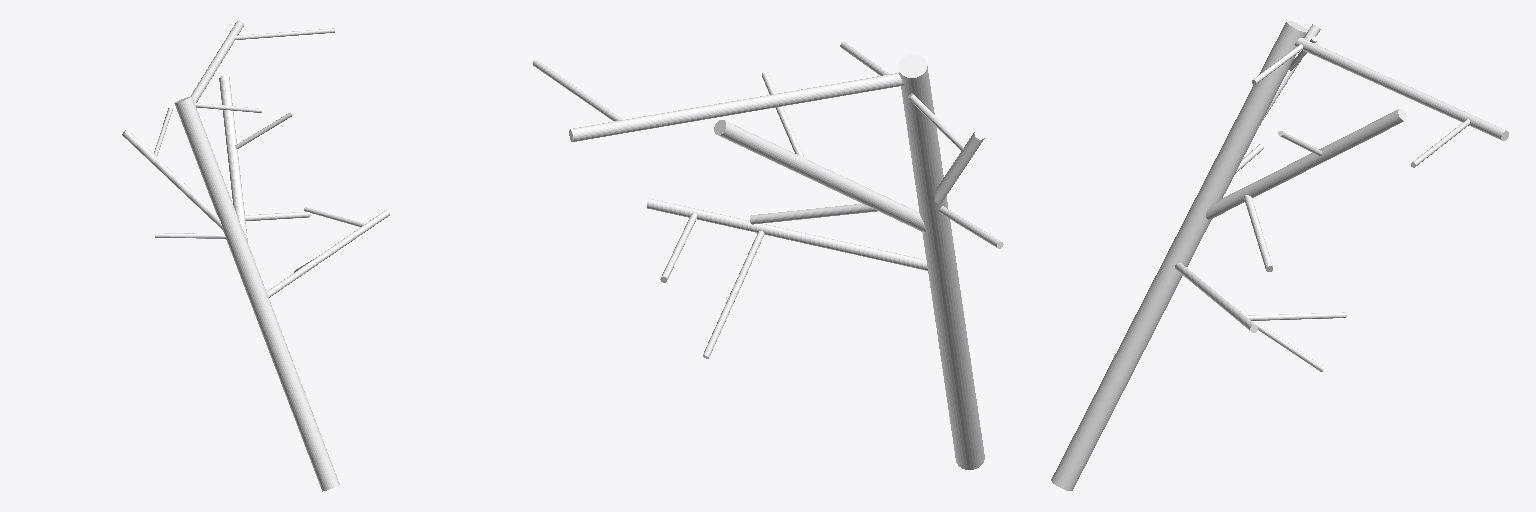
robot.urdf — tree_40.urdf:
<?xml version='1.0' encoding='UTF-8'?>
<robot name="tree_40.urdf">
  <link name="branch_0">
    <inertial>
      <origin xyz="0.0 0.0 0.0" rpy="0.0 -0.0 0.0"/>
      <mass value="1.0"/>
      <inertia ixx="1.0" ixy="0.0" ixz="0.0" iyy="1.0" iyz="0.0" izz="1.0"/>
    </inertial>
    <visual name="branch_0_visual">
      <geometry>
        <cylinder radius="0.1683630190923332" length="7.415576922899499"/>
      </geometry>
      <material name="branch_material"/>
      <origin xyz="-0.5688258565572858 1.6447076700783856 3.273998946205863" rpy="0.0 0.48856805980247836 1.9037712823253712"/>
    </visual>
    <collision name="branch_0_collision">
      <geometry>
        <cylinder radius="0.1683630190923332" length="7.415576922899499"/>
      </geometry>
      <origin xyz="-0.5688258565572858 1.6447076700783856 3.273998946205863" rpy="0.0 0.48856805980247836 1.9037712823253712"/>
    </collision>
  </link>
  <link name="branch_1">
    <inertial>
      <origin xyz="0.0 0.0 0.0" rpy="0.0 -0.0 0.0"/>
      <mass value="1.0"/>
      <inertia ixx="1.0" ixy="0.0" ixz="0.0" iyy="1.0" iyz="0.0" izz="1.0"/>
    </inertial>
    <visual name="branch_1_visual">
      <geometry>
        <cylinder radius="0.059117284755058404" length="3.483819289228695"/>
      </geometry>
      <material name="branch_material"/>
      <origin xyz="0.0 0.0 0.0" rpy="0.0 -0.0 0.0"/>
    </visual>
    <collision name="branch_1_collision">
      <geometry>
        <cylinder radius="0.059117284755058404" length="3.483819289228695"/>
      </geometry>
      <origin xyz="0.0 0.0 0.0" rpy="0.0 -0.0 0.0"/>
    </collision>
  </link>
  <link name="branch_2">
    <inertial>
      <origin xyz="0.0 0.0 0.0" rpy="0.0 -0.0 0.0"/>
      <mass value="1.0"/>
      <inertia ixx="1.0" ixy="0.0" ixz="0.0" iyy="1.0" iyz="0.0" izz="1.0"/>
    </inertial>
    <visual name="branch_2_visual">
      <geometry>
        <cylinder radius="0.04" length="1.5246982447365642"/>
      </geometry>
      <material name="branch_material"/>
      <origin xyz="0.0 0.0 0.0" rpy="0.0 -0.0 0.0"/>
    </visual>
    <collision name="branch_2_collision">
      <geometry>
        <cylinder radius="0.04" length="1.5246982447365642"/>
      </geometry>
      <origin xyz="0.0 0.0 0.0" rpy="0.0 -0.0 0.0"/>
    </collision>
  </link>
  <link name="branch_3">
    <inertial>
      <origin xyz="0.0 0.0 0.0" rpy="0.0 -0.0 0.0"/>
      <mass value="1.0"/>
      <inertia ixx="1.0" ixy="0.0" ixz="0.0" iyy="1.0" iyz="0.0" izz="1.0"/>
    </inertial>
    <visual name="branch_3_visual">
      <geometry>
        <cylinder radius="0.04" length="1.743351063896357"/>
      </geometry>
      <material name="branch_material"/>
      <origin xyz="0.0 0.0 0.0" rpy="0.0 -0.0 0.0"/>
    </visual>
    <collision name="branch_3_collision">
      <geometry>
        <cylinder radius="0.04" length="1.743351063896357"/>
      </geometry>
      <origin xyz="0.0 0.0 0.0" rpy="0.0 -0.0 0.0"/>
    </collision>
  </link>
  <link name="branch_4">
    <inertial>
      <origin xyz="0.0 0.0 0.0" rpy="0.0 -0.0 0.0"/>
      <mass value="1.0"/>
      <inertia ixx="1.0" ixy="0.0" ixz="0.0" iyy="1.0" iyz="0.0" izz="1.0"/>
    </inertial>
    <visual name="branch_4_visual">
      <geometry>
        <cylinder radius="0.07707807274684522" length="4.113313269638974"/>
      </geometry>
      <material name="branch_material"/>
      <origin xyz="0.0 0.0 0.0" rpy="0.0 -0.0 0.0"/>
    </visual>
    <collision name="branch_4_collision">
      <geometry>
        <cylinder radius="0.07707807274684522" length="4.113313269638974"/>
      </geometry>
      <origin xyz="0.0 0.0 0.0" rpy="0.0 -0.0 0.0"/>
    </collision>
  </link>
  <link name="branch_5">
    <inertial>
      <origin xyz="0.0 0.0 0.0" rpy="0.0 -0.0 0.0"/>
      <mass value="1.0"/>
      <inertia ixx="1.0" ixy="0.0" ixz="0.0" iyy="1.0" iyz="0.0" izz="1.0"/>
    </inertial>
    <visual name="branch_5_visual">
      <geometry>
        <cylinder radius="0.04" length="1.2754172766165321"/>
      </geometry>
      <material name="branch_material"/>
      <origin xyz="0.0 0.0 0.0" rpy="0.0 -0.0 0.0"/>
    </visual>
    <collision name="branch_5_collision">
      <geometry>
        <cylinder radius="0.04" length="1.2754172766165321"/>
      </geometry>
      <origin xyz="0.0 0.0 0.0" rpy="0.0 -0.0 0.0"/>
    </collision>
  </link>
  <link name="branch_6">
    <inertial>
      <origin xyz="0.0 0.0 0.0" rpy="0.0 -0.0 0.0"/>
      <mass value="1.0"/>
      <inertia ixx="1.0" ixy="0.0" ixz="0.0" iyy="1.0" iyz="0.0" izz="1.0"/>
    </inertial>
    <visual name="branch_6_visual">
      <geometry>
        <cylinder radius="0.04" length="1.8523567179133802"/>
      </geometry>
      <material name="branch_material"/>
      <origin xyz="0.0 0.0 0.0" rpy="0.0 -0.0 0.0"/>
    </visual>
    <collision name="branch_6_collision">
      <geometry>
        <cylinder radius="0.04" length="1.8523567179133802"/>
      </geometry>
      <origin xyz="0.0 0.0 0.0" rpy="0.0 -0.0 0.0"/>
    </collision>
  </link>
  <link name="branch_7">
    <inertial>
      <origin xyz="0.0 0.0 0.0" rpy="0.0 -0.0 0.0"/>
      <mass value="1.0"/>
      <inertia ixx="1.0" ixy="0.0" ixz="0.0" iyy="1.0" iyz="0.0" izz="1.0"/>
    </inertial>
    <visual name="branch_7_visual">
      <geometry>
        <cylinder radius="0.09437795506862831" length="3.7754307922966452"/>
      </geometry>
      <material name="branch_material"/>
      <origin xyz="0.0 0.0 0.0" rpy="0.0 -0.0 0.0"/>
    </visual>
    <collision name="branch_7_collision">
      <geometry>
        <cylinder radius="0.09437795506862831" length="3.7754307922966452"/>
      </geometry>
      <origin xyz="0.0 0.0 0.0" rpy="0.0 -0.0 0.0"/>
    </collision>
  </link>
  <link name="branch_8">
    <inertial>
      <origin xyz="0.0 0.0 0.0" rpy="0.0 -0.0 0.0"/>
      <mass value="1.0"/>
      <inertia ixx="1.0" ixy="0.0" ixz="0.0" iyy="1.0" iyz="0.0" izz="1.0"/>
    </inertial>
    <visual name="branch_8_visual">
      <geometry>
        <cylinder radius="0.04" length="1.2883614204852898"/>
      </geometry>
      <material name="branch_material"/>
      <origin xyz="0.0 0.0 0.0" rpy="0.0 -0.0 0.0"/>
    </visual>
    <collision name="branch_8_collision">
      <geometry>
        <cylinder radius="0.04" length="1.2883614204852898"/>
      </geometry>
      <origin xyz="0.0 0.0 0.0" rpy="0.0 -0.0 0.0"/>
    </collision>
  </link>
  <link name="branch_9">
    <inertial>
      <origin xyz="0.0 0.0 0.0" rpy="0.0 -0.0 0.0"/>
      <mass value="1.0"/>
      <inertia ixx="1.0" ixy="0.0" ixz="0.0" iyy="1.0" iyz="0.0" izz="1.0"/>
    </inertial>
    <visual name="branch_9_visual">
      <geometry>
        <cylinder radius="0.054259872874885574" length="1.679712287047864"/>
      </geometry>
      <material name="branch_material"/>
      <origin xyz="0.0 0.0 0.0" rpy="0.0 -0.0 0.0"/>
    </visual>
    <collision name="branch_9_collision">
      <geometry>
        <cylinder radius="0.054259872874885574" length="1.679712287047864"/>
      </geometry>
      <origin xyz="0.0 0.0 0.0" rpy="0.0 -0.0 0.0"/>
    </collision>
  </link>
  <link name="branch_10">
    <inertial>
      <origin xyz="0.0 0.0 0.0" rpy="0.0 -0.0 0.0"/>
      <mass value="1.0"/>
      <inertia ixx="1.0" ixy="0.0" ixz="0.0" iyy="1.0" iyz="0.0" izz="1.0"/>
    </inertial>
    <visual name="branch_10_visual">
      <geometry>
        <cylinder radius="0.06922934657382723" length="2.727781840887228"/>
      </geometry>
      <material name="branch_material"/>
      <origin xyz="0.0 0.0 0.0" rpy="0.0 -0.0 0.0"/>
    </visual>
    <collision name="branch_10_collision">
      <geometry>
        <cylinder radius="0.06922934657382723" length="2.727781840887228"/>
      </geometry>
      <origin xyz="0.0 0.0 0.0" rpy="0.0 -0.0 0.0"/>
    </collision>
  </link>
  <link name="branch_11">
    <inertial>
      <origin xyz="0.0 0.0 0.0" rpy="0.0 -0.0 0.0"/>
      <mass value="1.0"/>
      <inertia ixx="1.0" ixy="0.0" ixz="0.0" iyy="1.0" iyz="0.0" izz="1.0"/>
    </inertial>
    <visual name="branch_11_visual">
      <geometry>
        <cylinder radius="0.04450069451885766" length="1.4272829514538294"/>
      </geometry>
      <material name="branch_material"/>
      <origin xyz="0.0 0.0 0.0" rpy="0.0 -0.0 0.0"/>
    </visual>
    <collision name="branch_11_collision">
      <geometry>
        <cylinder radius="0.04450069451885766" length="1.4272829514538294"/>
      </geometry>
      <origin xyz="0.0 0.0 0.0" rpy="0.0 -0.0 0.0"/>
    </collision>
  </link>
  <link name="branch_12">
    <inertial>
      <origin xyz="0.0 0.0 0.0" rpy="0.0 -0.0 0.0"/>
      <mass value="1.0"/>
      <inertia ixx="1.0" ixy="0.0" ixz="0.0" iyy="1.0" iyz="0.0" izz="1.0"/>
    </inertial>
    <visual name="branch_12_visual">
      <geometry>
        <cylinder radius="0.04" length="0.9892405491728322"/>
      </geometry>
      <material name="branch_material"/>
      <origin xyz="0.0 0.0 0.0" rpy="0.0 -0.0 0.0"/>
    </visual>
    <collision name="branch_12_collision">
      <geometry>
        <cylinder radius="0.04" length="0.9892405491728322"/>
      </geometry>
      <origin xyz="0.0 0.0 0.0" rpy="0.0 -0.0 0.0"/>
    </collision>
  </link>
  <joint name="joint_0_1" type="fixed">
    <parent link="branch_0"/>
    <child link="branch_1"/>
    <axis xyz="1. 0. 0."/>
    <origin xyz="1.082817874185074 2.1397402505097207 3.420694979289322" rpy="-1.2648970111742142 1.057829794642295 -0.9769289595909671"/>
  </joint>
  <joint name="joint_0_4" type="fixed">
    <parent link="branch_0"/>
    <child link="branch_4"/>
    <axis xyz="1. 0. 0."/>
    <origin xyz="0.29867902747294156 4.699480478556816 6.278974143078964" rpy="-1.6781873020297617 1.1327627716029345 -0.8509094994808784"/>
  </joint>
  <joint name="joint_0_7" type="fixed">
    <parent link="branch_0"/>
    <child link="branch_7"/>
    <axis xyz="1. 0. 0."/>
    <origin xyz="-0.051773247913959645 3.340819287602116 4.898309752246861" rpy="-0.6363833143847003 0.7796313467753813 0.3544015028405517"/>
  </joint>
  <joint name="joint_0_10" type="fixed">
    <parent link="branch_0"/>
    <child link="branch_10"/>
    <axis xyz="1. 0. 0."/>
    <origin xyz="-1.461720481046085 2.8438243863697017 5.142939260189422" rpy="0.4950357642940965 0.7147873562819071 3.0521927746148383"/>
  </joint>
  <joint name="joint_1_2" type="fixed">
    <parent link="branch_0"/>
    <child link="branch_2"/>
    <axis xyz="1. 0. 0."/>
    <origin xyz="1.97678590860898 3.2414334361176023 3.5218907083022386" rpy="1.6681246280289932 0.15103874037457884 -2.843643492338614"/>
  </joint>
  <joint name="joint_1_3" type="fixed">
    <parent link="branch_0"/>
    <child link="branch_3"/>
    <axis xyz="1. 0. 0."/>
    <origin xyz="1.4147468876254006 2.9559213202996424 2.9533009895179703" rpy="2.236244763172215 0.23675836203974895 -2.9283619262726392"/>
  </joint>
  <joint name="joint_4_5" type="fixed">
    <parent link="branch_0"/>
    <child link="branch_5"/>
    <axis xyz="1. 0. 0."/>
    <origin xyz="-0.401619011973193 3.0364093824850533 6.318510716388012" rpy="-1.637249955299709 -0.03468296924667397 -2.1535899594259185"/>
  </joint>
  <joint name="joint_4_6" type="fixed">
    <parent link="branch_0"/>
    <child link="branch_6"/>
    <axis xyz="1. 0. 0."/>
    <origin xyz="2.0847857686358977 5.3139214586138115 6.258901541007516" rpy="-1.5240048920502214 -0.06230685599851297 -2.020820436988674"/>
  </joint>
  <joint name="joint_7_8" type="fixed">
    <parent link="branch_0"/>
    <child link="branch_8"/>
    <axis xyz="1. 0. 0."/>
    <origin xyz="0.5186667317208586 3.355941594458581 5.504285107552148" rpy="-0.8651497257976847 0.4848267513299257 -1.789097215342963"/>
  </joint>
  <joint name="joint_7_9" type="fixed">
    <parent link="branch_0"/>
    <child link="branch_9"/>
    <axis xyz="1. 0. 0."/>
    <origin xyz="0.419861865388426 2.7449515442815726 4.113684007355847" rpy="-1.9204046766914336 0.751278429173756 -1.6155049071827459"/>
  </joint>
  <joint name="joint_10_11" type="fixed">
    <parent link="branch_0"/>
    <child link="branch_11"/>
    <axis xyz="1. 0. 0."/>
    <origin xyz="-1.374876717736582 2.4634334470415915 4.266191407293762" rpy="1.4754313231305158 1.239520762360065 -2.1407558527983768"/>
  </joint>
  <joint name="joint_10_12" type="fixed">
    <parent link="branch_0"/>
    <child link="branch_12"/>
    <axis xyz="1. 0. 0."/>
    <origin xyz="-1.5240310843610707 3.358346022888921 5.9361272052206955" rpy="-0.6173615222408448 0.42263635918711984 -0.47594119050429856"/>
  </joint>
  <material name="branch_material">
    <color rgba="1. 1. 1. 1."/>
  </material>
</robot>

--- Render facts (derived) ---
Views: 3 orthographic renders of the robot side by side, from view 1: azimuth 30°, elevation 25°; view 2: azimuth 150°, elevation 25°; view 3: azimuth 270°, elevation 25°.
Model tree_40.urdf with 13 links and 12 joints (12 fixed), rooted at branch_0, posed every joint at zero.
Visible links, largest first — view 1: branch_0, branch_7, branch_10, branch_1, branch_4; view 2: branch_0, branch_4, branch_7, branch_1, branch_9, branch_10, branch_3, branch_6, branch_11, branch_8, branch_12; view 3: branch_0, branch_7, branch_4, branch_1, branch_9, branch_2.
Link boxes in pixels (x1=…): branch_0: x1=174, y1=96, x2=339, y2=491; branch_7: x1=219, y1=76, x2=247, y2=241; branch_10: x1=122, y1=130, x2=222, y2=229; branch_1: x1=267, y1=210, x2=389, y2=297; branch_4: x1=191, y1=20, x2=243, y2=102; branch_0: x1=898, y1=55, x2=984, y2=469; branch_4: x1=569, y1=73, x2=903, y2=141; branch_7: x1=714, y1=120, x2=925, y2=232; branch_1: x1=647, y1=198, x2=927, y2=270; branch_9: x1=750, y1=204, x2=877, y2=224; branch_10: x1=935, y1=128, x2=985, y2=203; branch_3: x1=703, y1=231, x2=764, y2=358; branch_6: x1=533, y1=60, x2=622, y2=120; branch_11: x1=938, y1=206, x2=1003, y2=248; branch_8: x1=762, y1=72, x2=803, y2=157; branch_12: x1=908, y1=93, x2=964, y2=151; branch_0: x1=1051, y1=21, x2=1307, y2=490; branch_7: x1=1206, y1=109, x2=1406, y2=219; branch_4: x1=1295, y1=38, x2=1508, y2=140; branch_1: x1=1175, y1=263, x2=1257, y2=332; branch_9: x1=1244, y1=195, x2=1272, y2=271; branch_2: x1=1246, y1=312, x2=1346, y2=320.
Size in the robot's own frame: 5.18 by 6.4 by 6.71 metres.
Geometry: primitives only (box / cylinder / sphere), no mesh files.